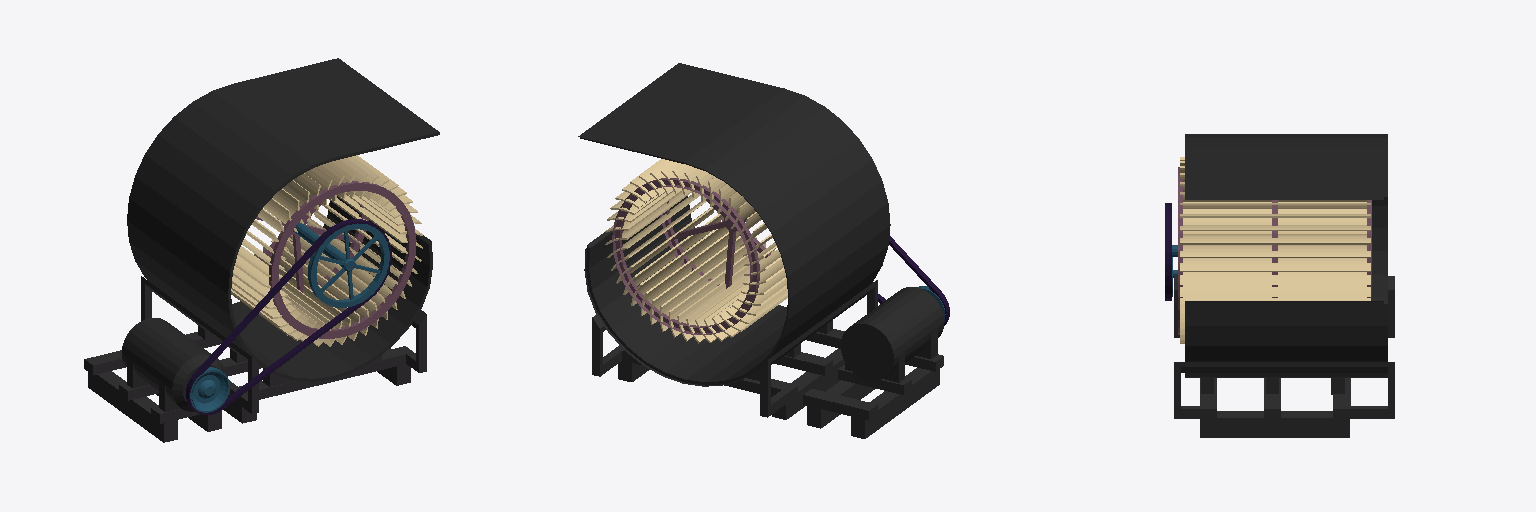
The model's file is Fan.obj.
3 renders of one model, left to right at view 1: azimuth 30°, elevation 25°; view 2: azimuth 150°, elevation 25°; view 3: azimuth 270°, elevation 25°, orthographic.
Visible parts, largest first — view 1: Fan; view 2: Fan; view 3: Fan.
Part boxes in pixels (x1,y1,x2,y2): Fan: (84,58,439,442); Fan: (578,63,949,438); Fan: (1165,134,1394,437).
Size of the model in its own units: 1.72 by 1.51 by 1.26.